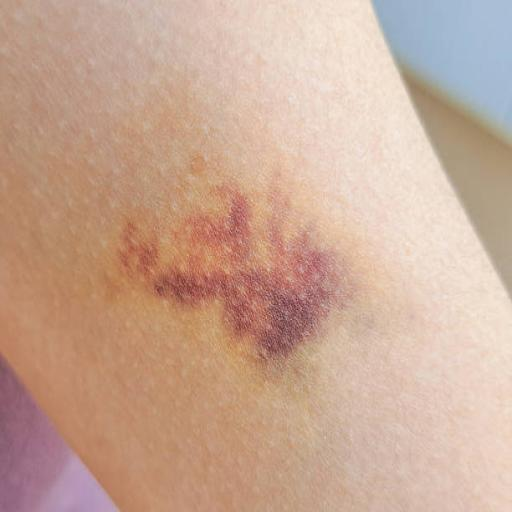bruises: (226, 270, 319, 355)
